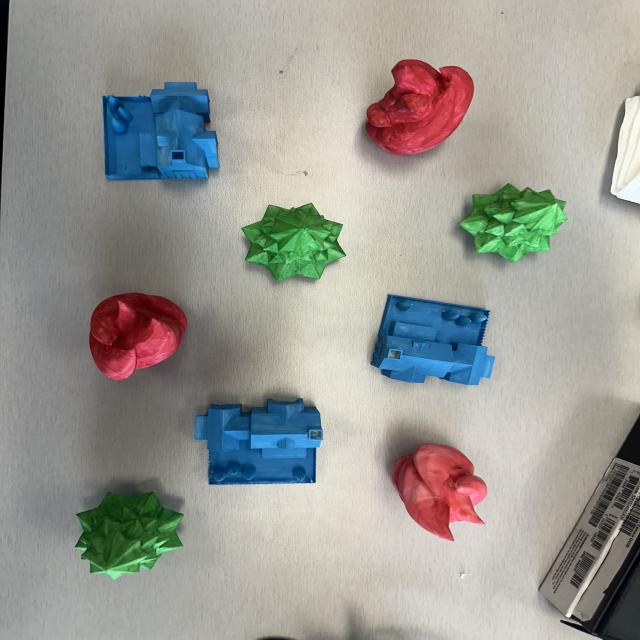fire: (363, 60, 475, 156), (392, 442, 490, 542), (86, 292, 190, 381)
house: (367, 292, 497, 388), (98, 82, 220, 184), (192, 398, 328, 487)
tree: (73, 492, 185, 580), (456, 183, 570, 264), (241, 202, 348, 282)
